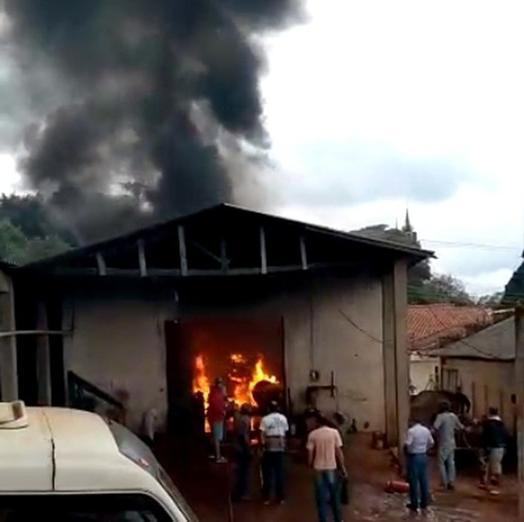Fire: (188, 346, 280, 414)
